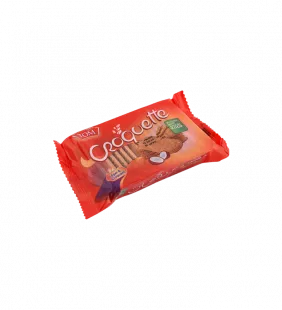TOM: (44, 84, 236, 228)
